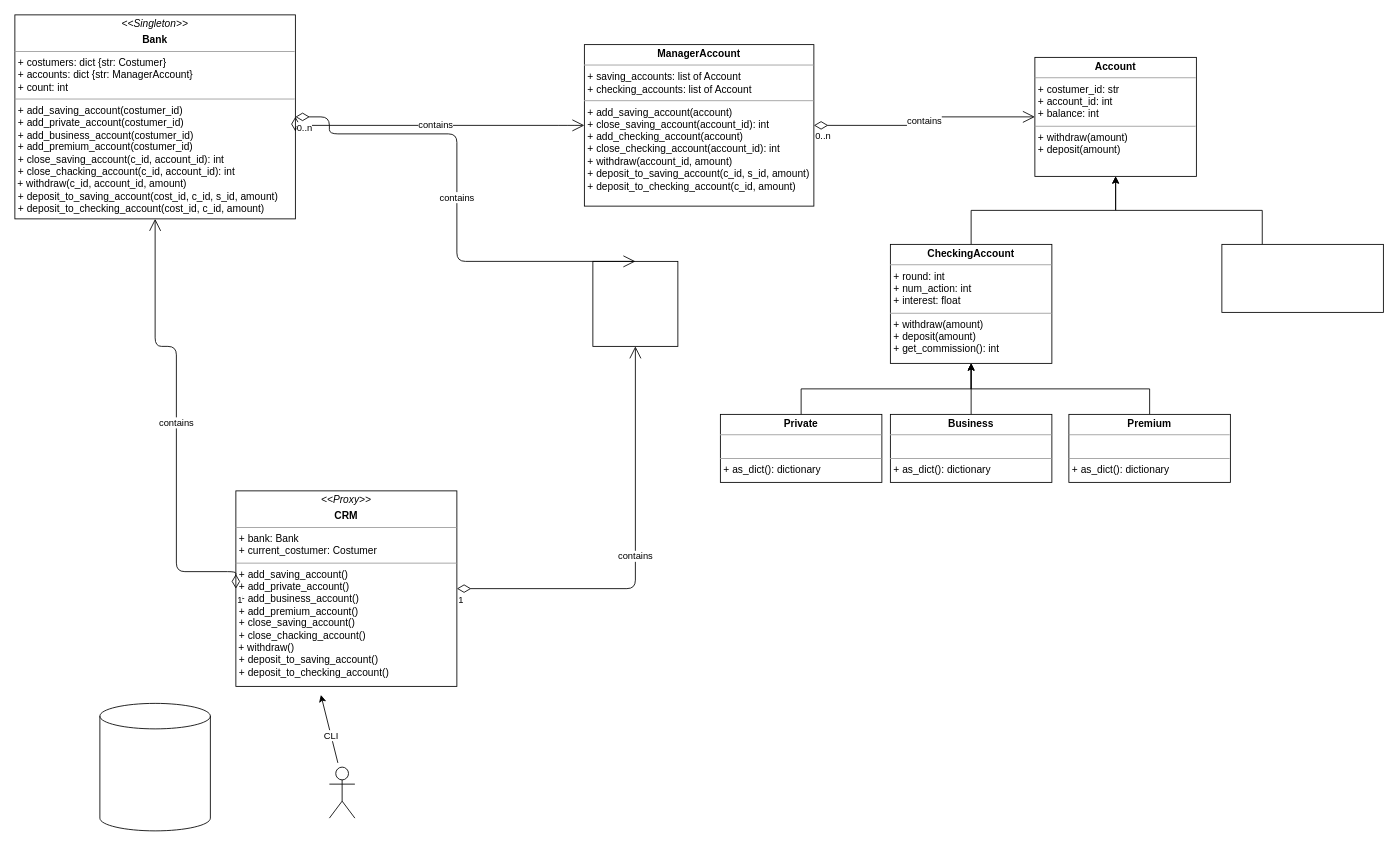
The diagram is 1398 pixels wide and 851 high, and some of its shapes have lost their labels. The centre of each missing label's shape, as x and y in pixels:
"BankDB: 1. read from json file 2. create bank 3. write to json file" goes at point 154,767.
"costumer" goes at point 342,792.
"Costumer + id: str + name: str + password: str" goes at point 635,303.
"SavingAccount + as_dict(): dictionary" goes at point 1302,278.
